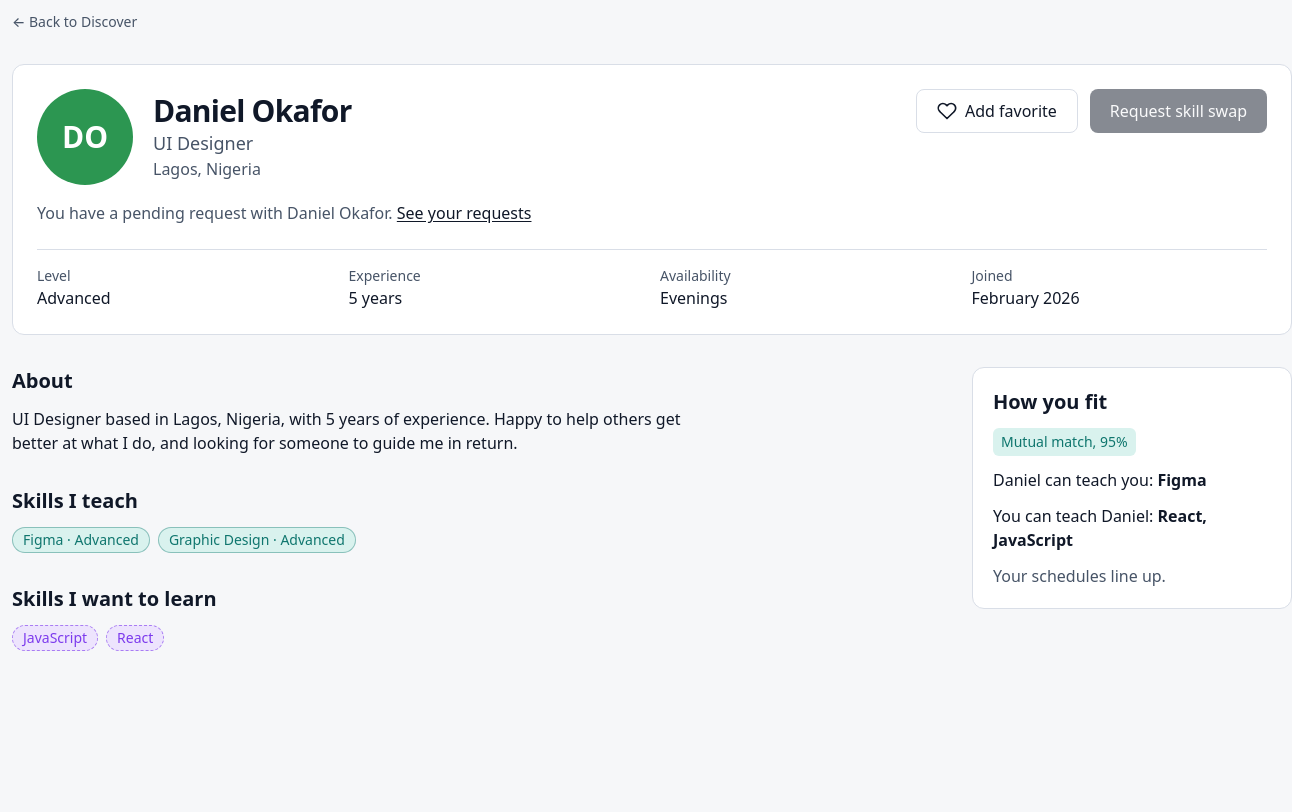
Test: ProfileView: favorites › adds a favorite
Click the button "Add favorite": (997, 111) [916, 89, 1078, 133]
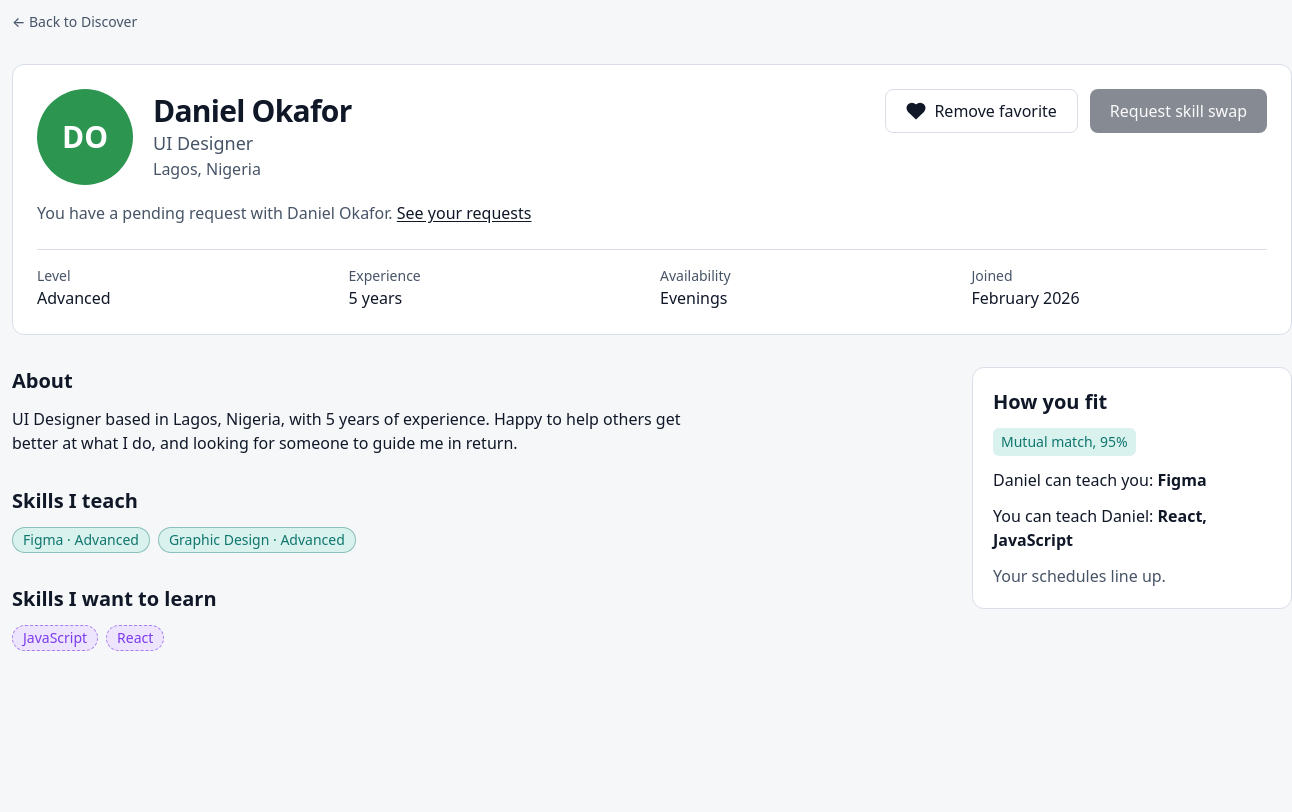
Check: the button "Remove favorite" is shown, box [885, 89, 1078, 133]
